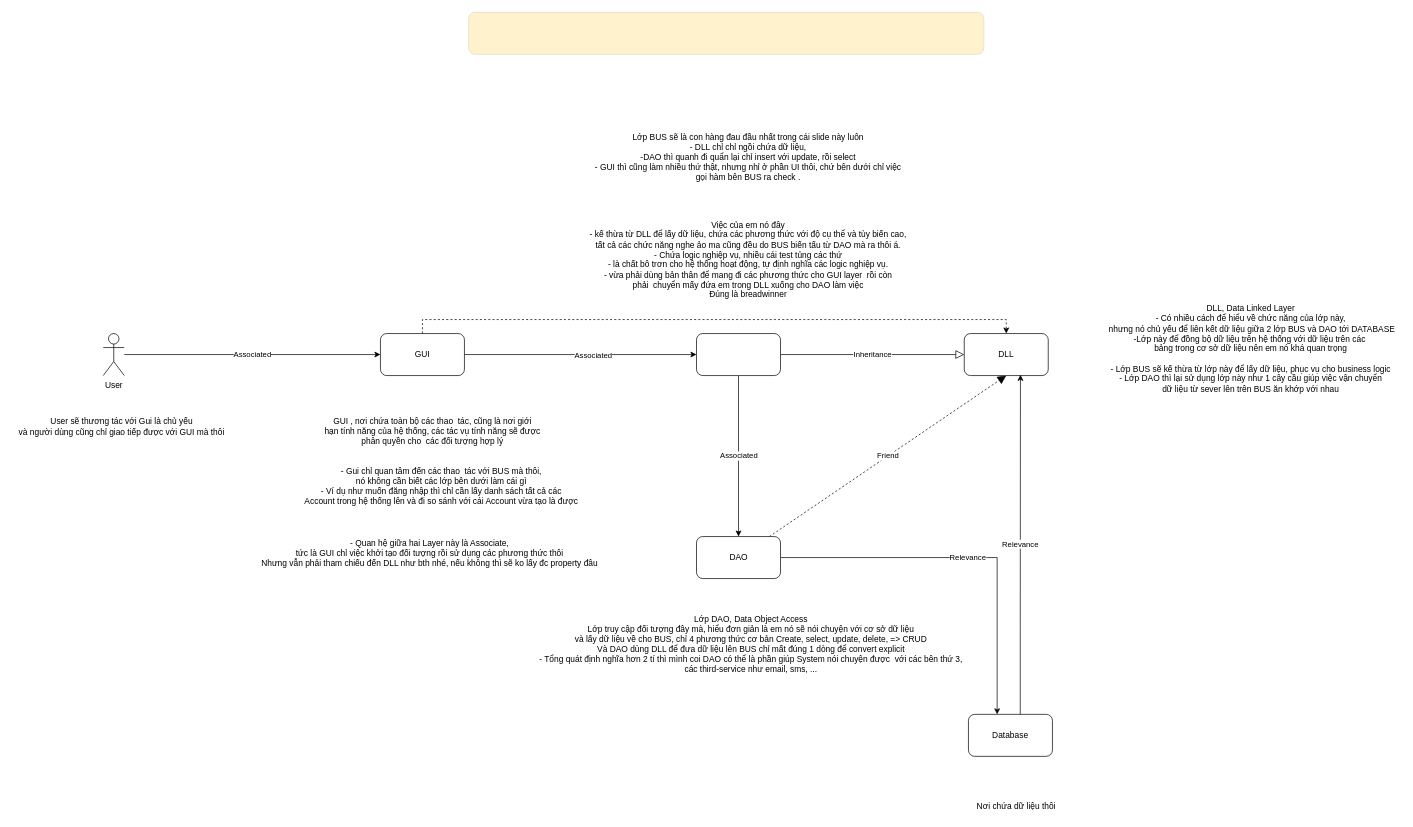
This 1413x827 diagram has some shape labels left out. Here are the shapes that lost their labels. From the top down, the box of each, then its label:
(468, 12, 984, 54): Three Layer Relationships Insight (POV)
(696, 333, 780, 376): BUS
